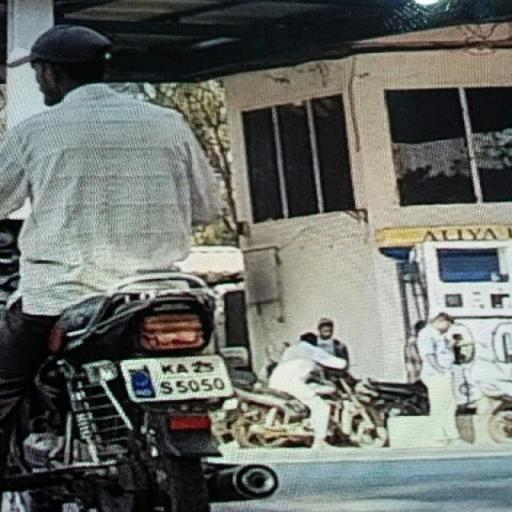bike: (4, 20, 282, 510)
numberplate: (122, 353, 236, 404)
withouthelmet: (37, 26, 106, 89)
